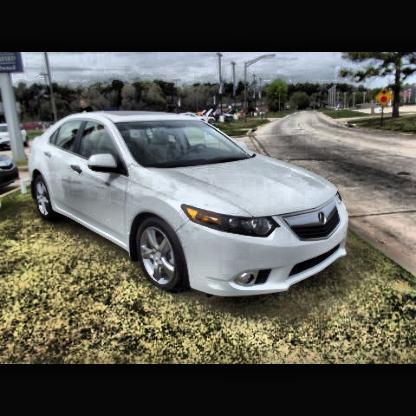Acura TSX Sedan 2012: (30, 111, 351, 298)
